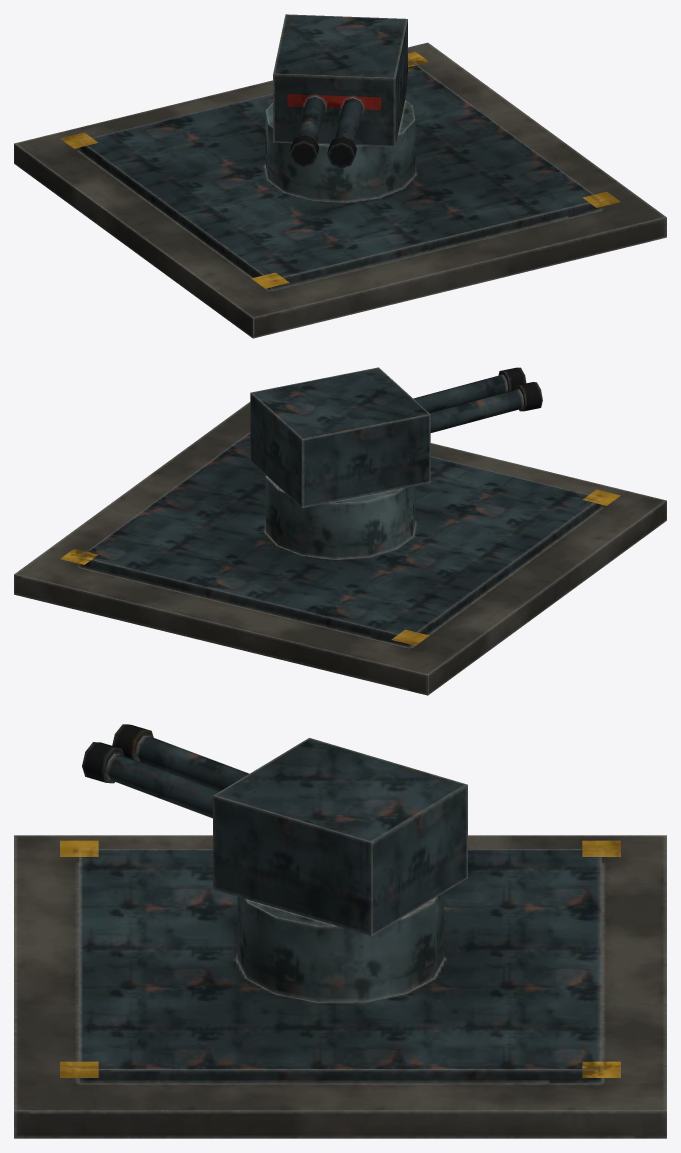
The model's file is heavy_cannon.glb.
3 renders of one model, top to bottom at view 1: azimuth 30°, elevation 25°; view 2: azimuth 150°, elevation 25°; view 3: azimuth 270°, elevation 25°, orthographic. The views are drawn at different scales.
Parts seen in each view (by area): view 1: te_heavy_cannon; view 2: te_heavy_cannon; view 3: te_heavy_cannon.
Part boxes in pixels (left/top/right/bottom): te_heavy_cannon: left=14, top=14, right=666, bottom=338; te_heavy_cannon: left=14, top=367, right=666, bottom=695; te_heavy_cannon: left=14, top=724, right=666, bottom=1138.
Bounding box in the file's own units: 1.72 × 0.612 × 1.72.
1 material, 1 textured.
